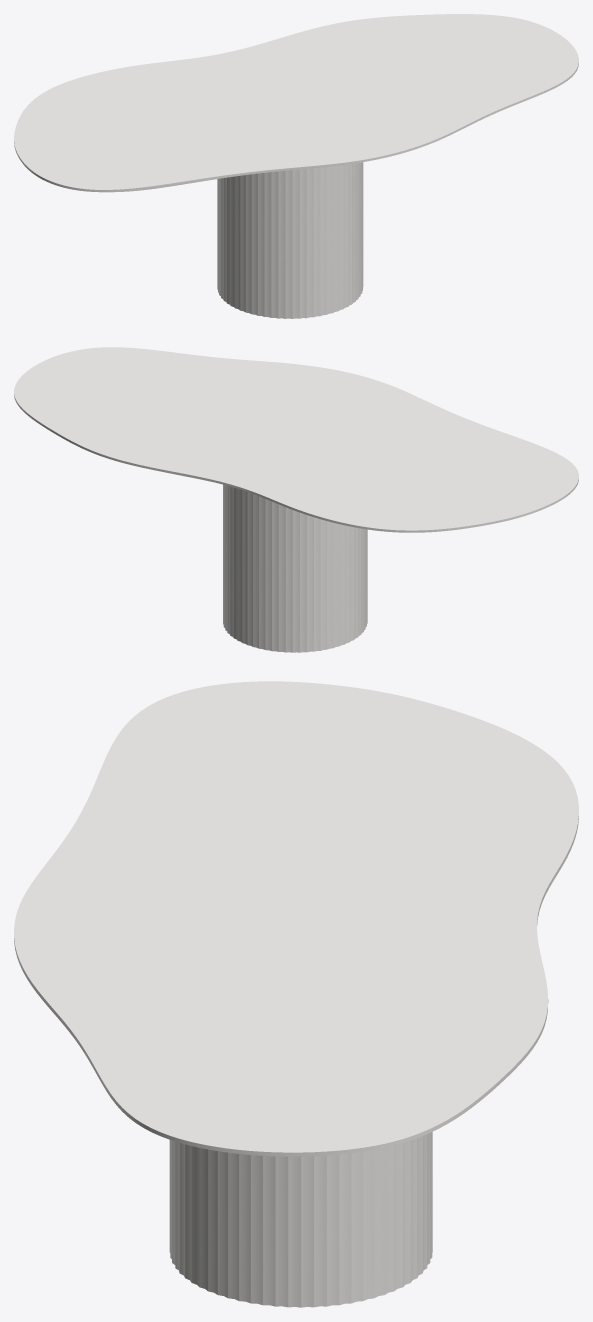
File: purewhite_toplast_facet_ripple.glb
3 renders of one model, top to bottom at view 1: azimuth 30°, elevation 25°; view 2: azimuth 150°, elevation 25°; view 3: azimuth 270°, elevation 25°, orthographic. The views are drawn at different scales.
Parts seen in each view (by area): view 1: facet_toplast, ripple; view 2: facet_toplast, ripple; view 3: facet_toplast, ripple.
Boxes of the visible parts, x1,y1,x2,y2 form: facet_toplast: (14,14,578,192); ripple: (217,162,363,318); facet_toplast: (14,347,578,532); ripple: (223,484,367,652); facet_toplast: (14,681,578,1156); ripple: (169,1132,432,1307).
Bounding box in the file's own units: 7.5 × 2.5 × 3.8.
1 material, 1 textured.
